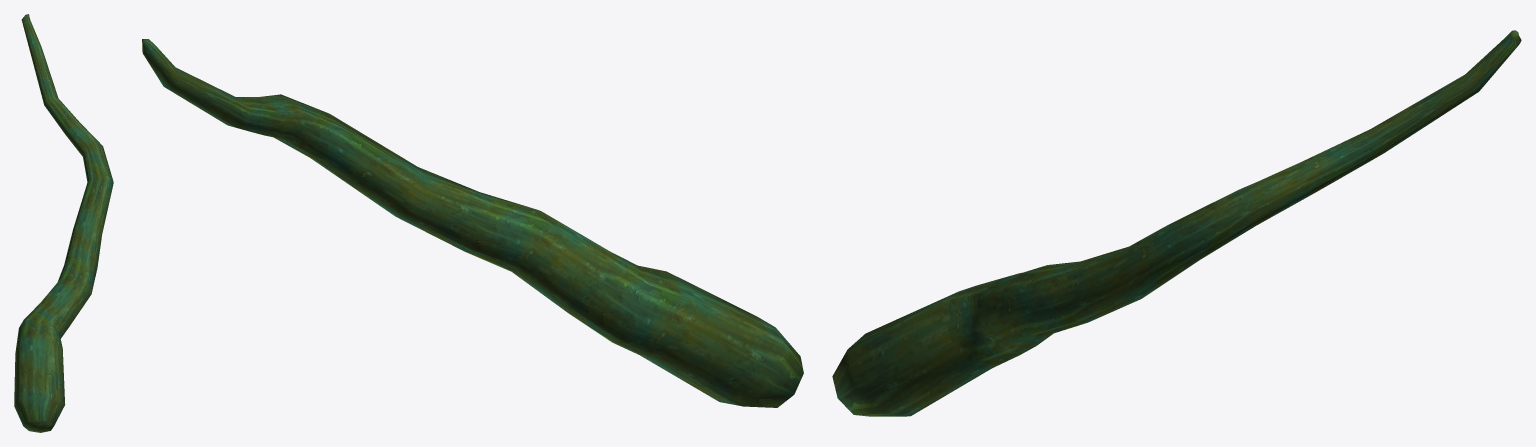
File: MIRKWOOD_MIRK_PLAYSURFACE69.fbx
3 renders of one model, left to right at view 1: azimuth 30°, elevation 25°; view 2: azimuth 150°, elevation 25°; view 3: azimuth 270°, elevation 25°, orthographic. The views are drawn at different scales.
Visible parts, largest first — view 1: MIRKWOOD_MIRK_PLAYSURFACE69; view 2: MIRKWOOD_MIRK_PLAYSURFACE69; view 3: MIRKWOOD_MIRK_PLAYSURFACE69.
Boxes of the visible parts, x1=… form: MIRKWOOD_MIRK_PLAYSURFACE69: x1=14, y1=14, x2=113, y2=432; MIRKWOOD_MIRK_PLAYSURFACE69: x1=142, y1=39, x2=803, y2=407; MIRKWOOD_MIRK_PLAYSURFACE69: x1=832, y1=30, x2=1521, y2=416.
Size of the model in its own units: 31210 by 45722 by 53947.
1 material, 1 textured.
